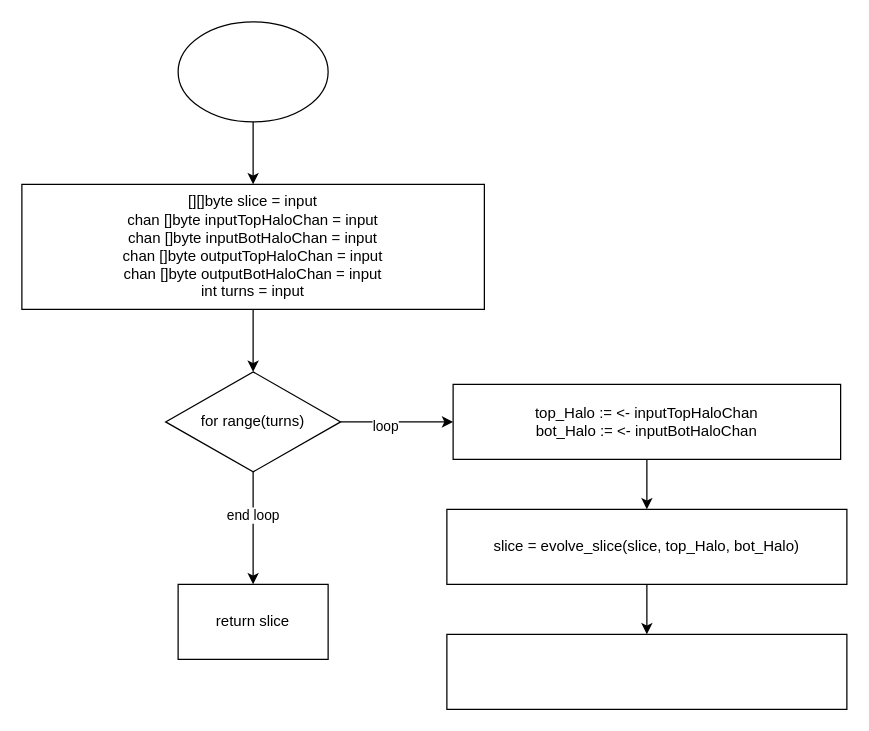
This 869x731 diagram has some shape labels left out. The shapes that lost their labels are listed below. From the top down, each one's centre as x and y in pixels, then its label:
At (252,71): "start worker.go".
At (646,671): "outputTopHaloChan <- slice[topRow] outputBotHaloChan <- slice[botRow]".
